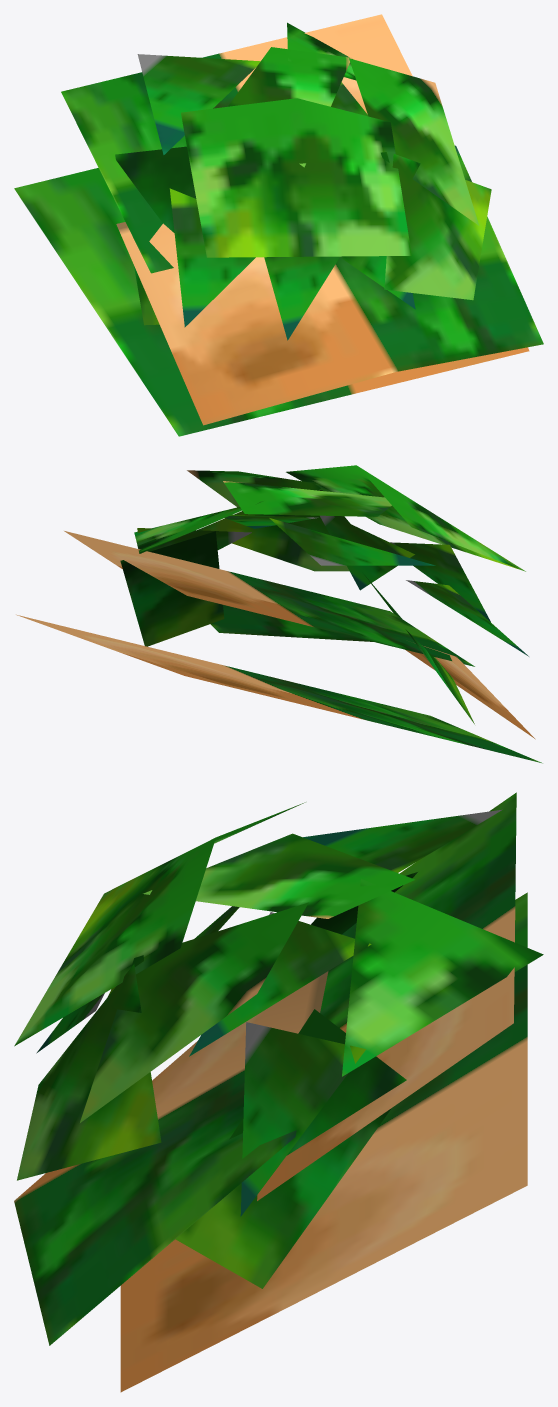
File: fg_bushD_2_re.dae
The picture shows the model from 3 angles, top to bottom: view 1: azimuth 30°, elevation 25°; view 2: azimuth 150°, elevation 25°; view 3: azimuth 270°, elevation 25°; orthographic projection. The views are drawn at different scales.
Visible parts, largest first — view 1: fg_bushD_2_re; view 2: fg_bushD_2_re; view 3: fg_bushD_2_re.
Boxes of the visible parts, bbox=[...] form: fg_bushD_2_re: bbox=[14, 14, 543, 436]; fg_bushD_2_re: bbox=[16, 465, 542, 763]; fg_bushD_2_re: bbox=[14, 792, 543, 1392].
Size of the model in its own units: 47.83 by 31.26 by 36.53.
Materials: 1 (1 with a texture image).
